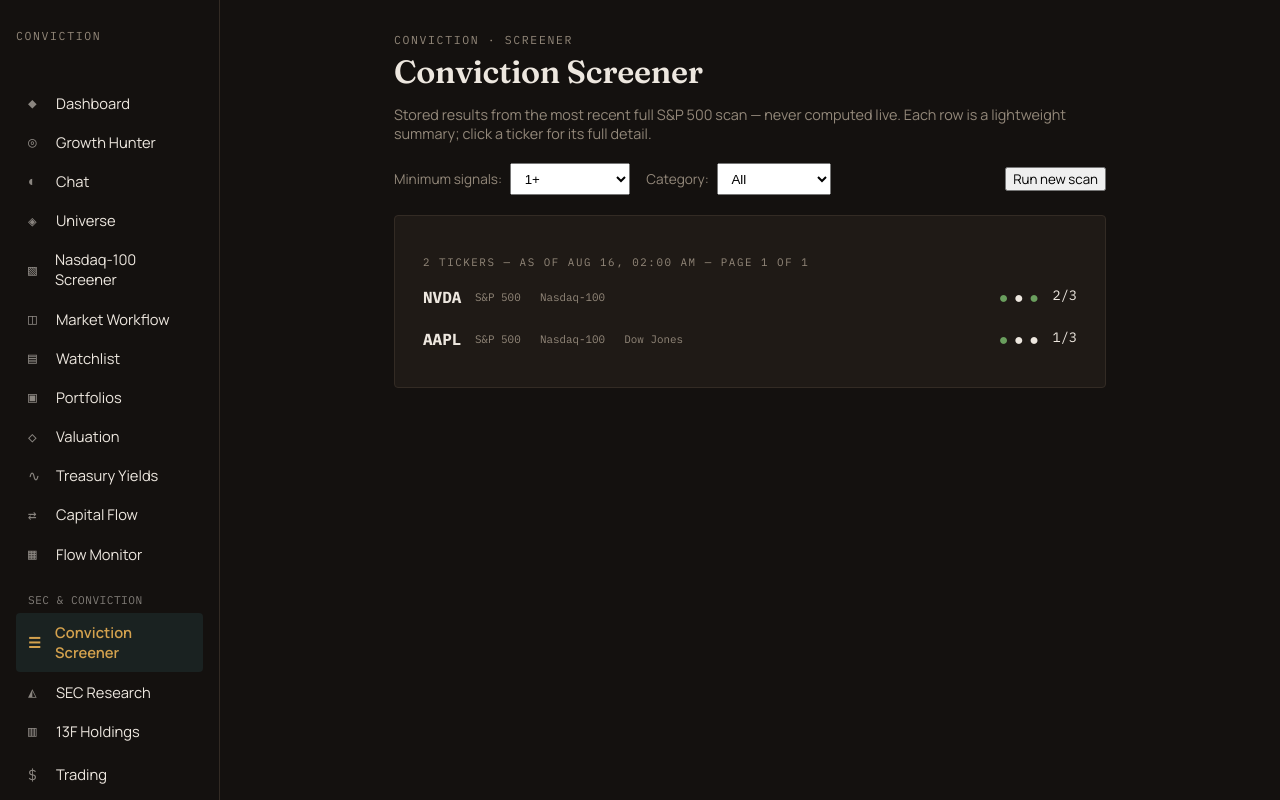
it: Conviction Screener page › filtering by category shows only tickers genuinely in that index
The image size is (1280, 800).
Check: the text "NVDA" is shown, box [423,287,461,307]
Select "Dow Jones" in the 2nd dropdown showing "All" at (774, 179), box [717,163,831,195]
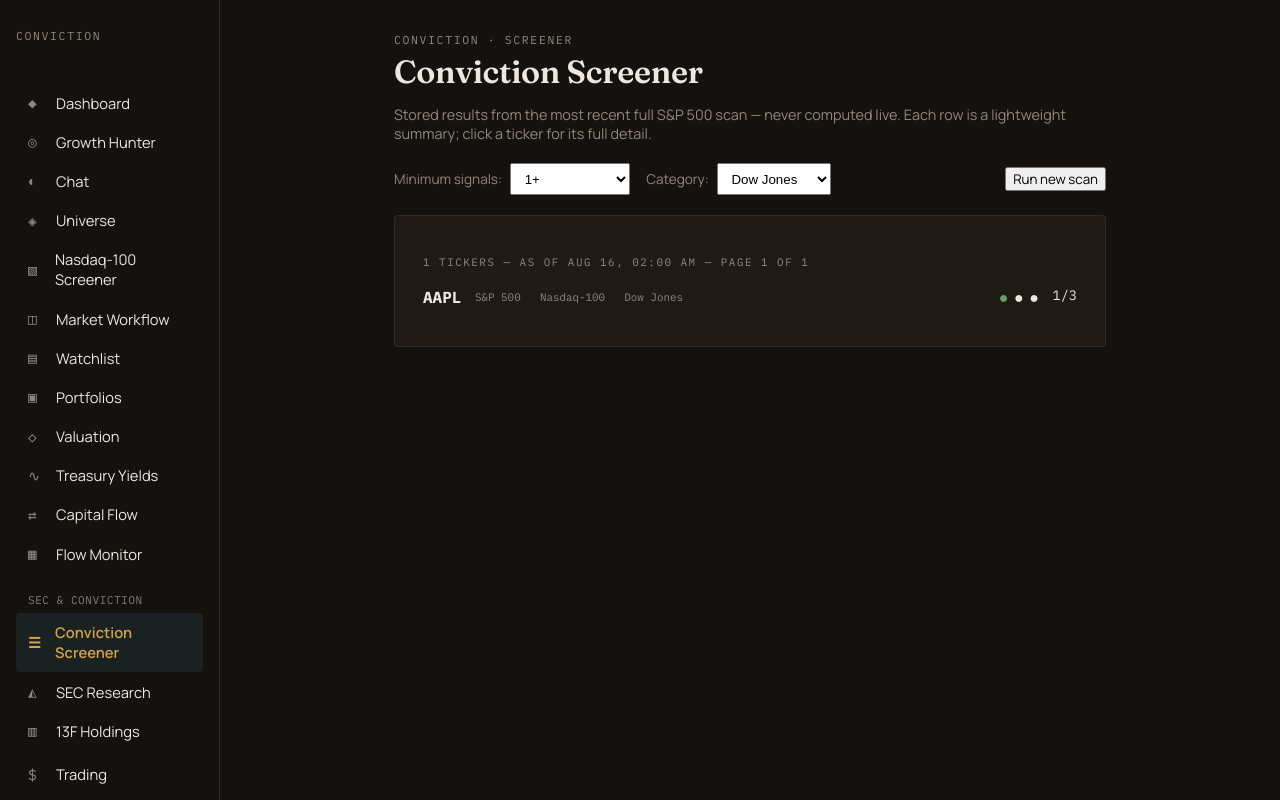
Check: the text "AAPL" is shown, box [423,287,461,307]
Check: the link "NVDA" is gone
